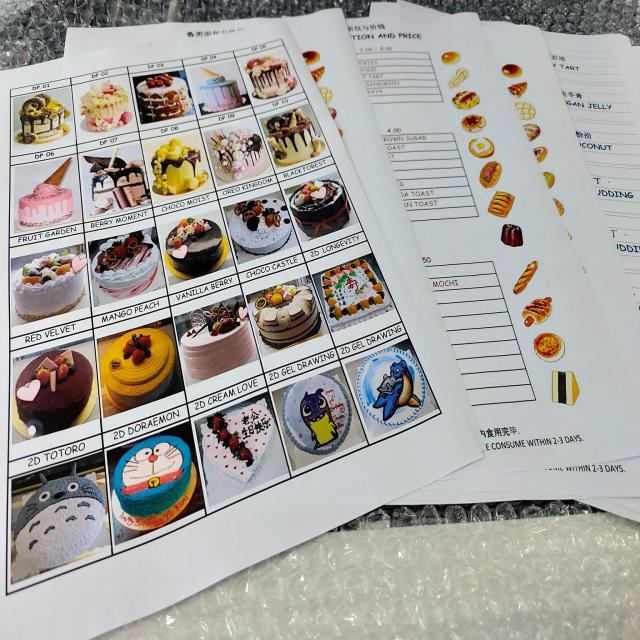paper: (0, 11, 474, 640), (344, 0, 640, 524)
